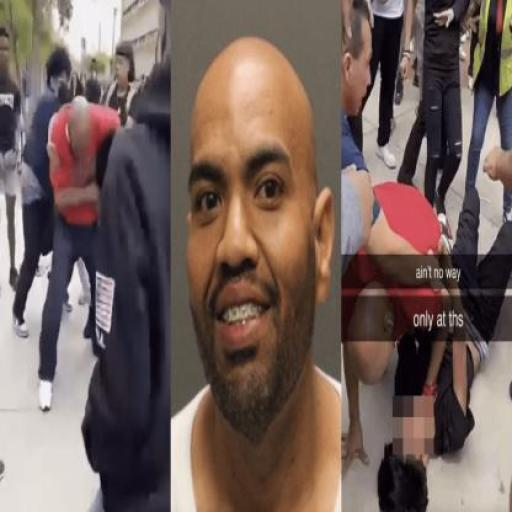Fighting: (0, 7, 170, 511), (348, 0, 506, 512)
